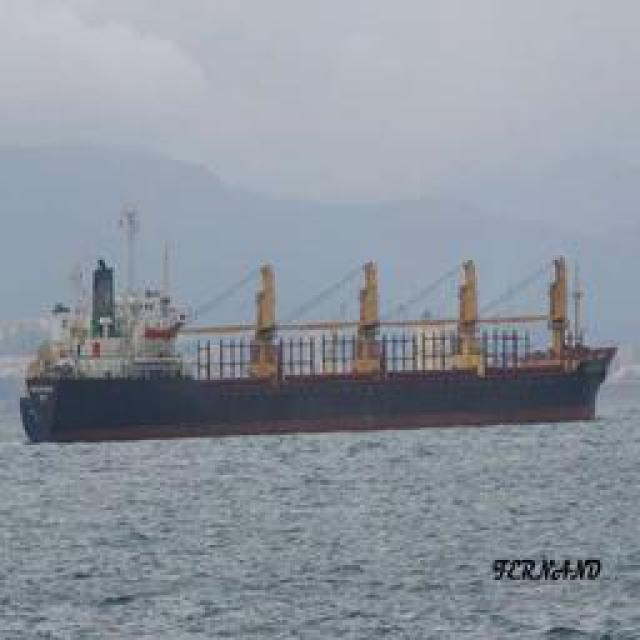CIV_Ship: (17, 221, 615, 444)
